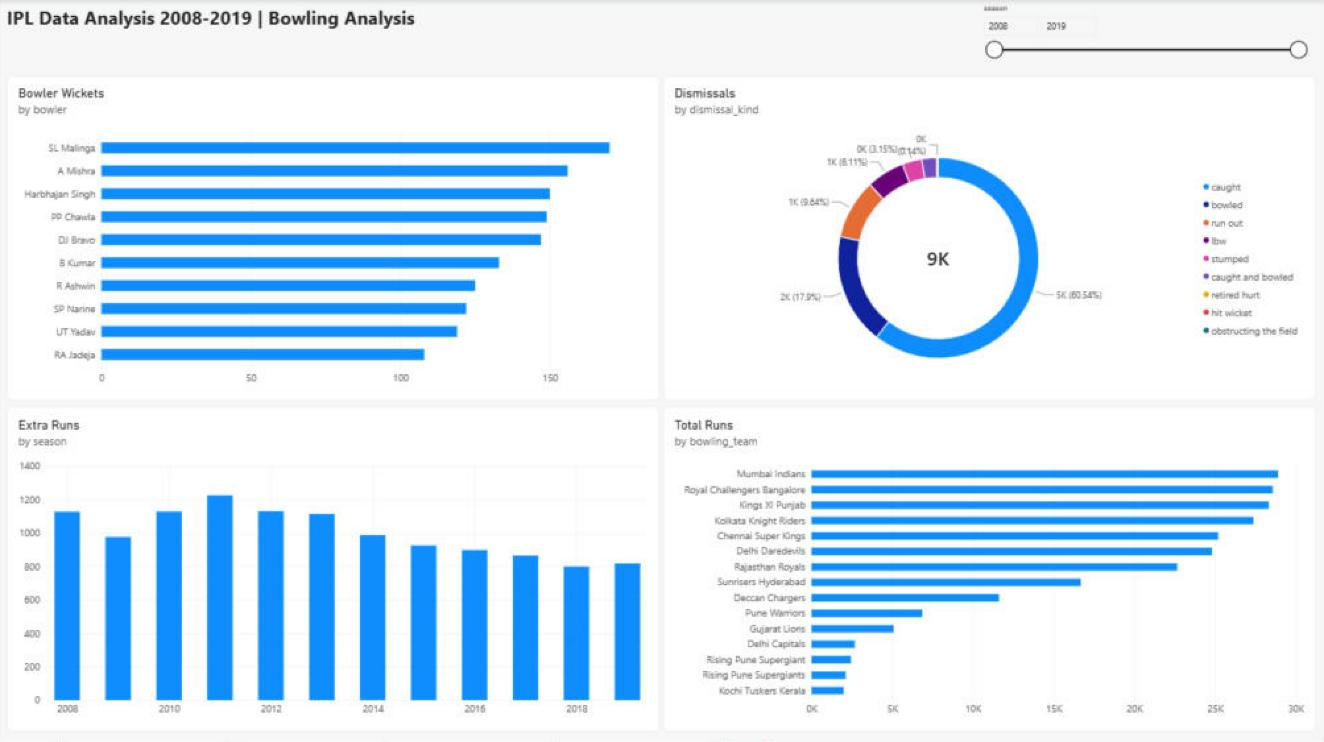

The page's visual inventory and layout, read from the dashboard file:
{"tool":"powerbi","page":{"name":"Bowling Analysis","canvas":[1920,1080],"ordinal":3},"visuals":[{"type":"textbox","box":[15,8,820,60],"z":3000},{"type":"slicer","fields":{"Values":["matches.season"]},"box":[1420,5,480,95],"z":4000},{"type":"clusteredBarChart","fields":{"Category":["deliveries.bowler"],"Y":["matches.Bowler Wickets"]},"box":[15,110,945,470],"z":4001},{"type":"donutChart","fields":{"Category":["deliveries.dismissal_kind"],"Y":["matches.Dismissals"]},"box":[965,110,945,470],"z":4002},{"type":"clusteredColumnChart","fields":{"Category":["matches.season"],"Y":["matches.Extra Runs"]},"box":[15,590,945,470],"z":4003},{"type":"clusteredBarChart","fields":{"Category":["deliveries.bowling_team"],"Y":["matches.Total Runs"]},"box":[965,590,945,470],"z":4004}]}

Visuals, with their boxes in screenshot pixels (x1, y1, x2, y2), scaled from the page's 1920x1080 canvas onto the 1324x742 screenshot:
textbox: (x1=10, y1=5, x2=576, y2=47)
slicer - matches.season: (x1=979, y1=3, x2=1310, y2=69)
clusteredBarChart - deliveries.bowler x matches.Bowler Wickets: (x1=10, y1=76, x2=662, y2=398)
donutChart - deliveries.dismissal_kind x matches.Dismissals: (x1=665, y1=76, x2=1317, y2=398)
clusteredColumnChart - matches.season x matches.Extra Runs: (x1=10, y1=405, x2=662, y2=728)
clusteredBarChart - deliveries.bowling_team x matches.Total Runs: (x1=665, y1=405, x2=1317, y2=728)
